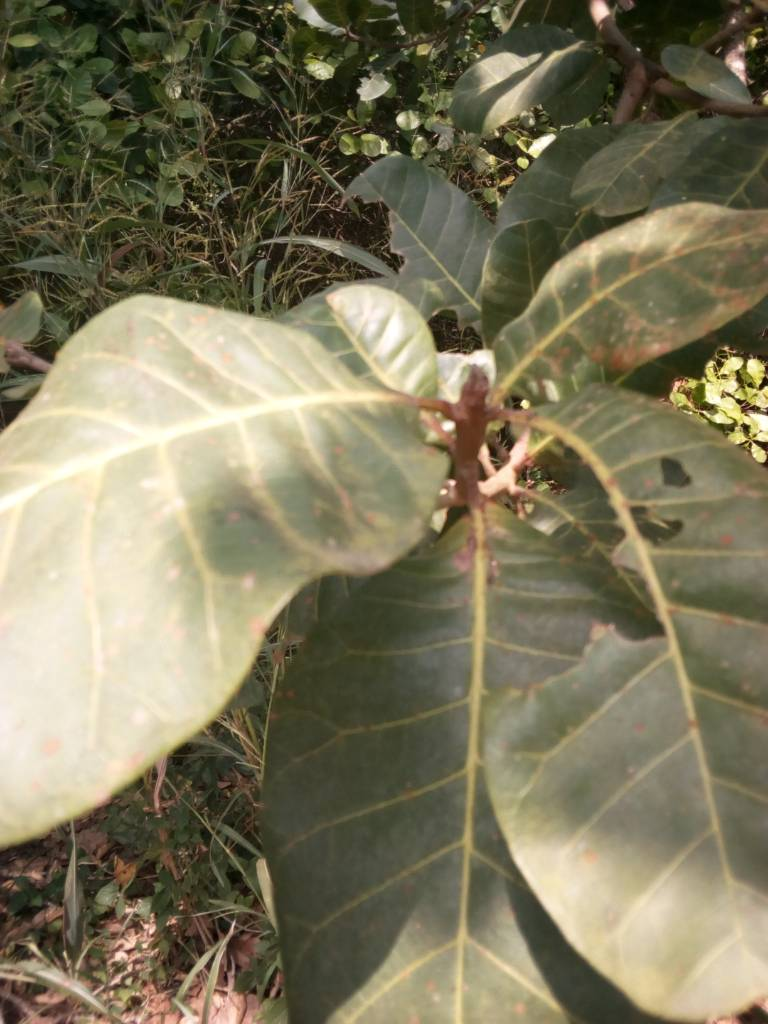Rouille: (1, 272, 482, 853), (475, 389, 768, 1024), (490, 203, 766, 492)
